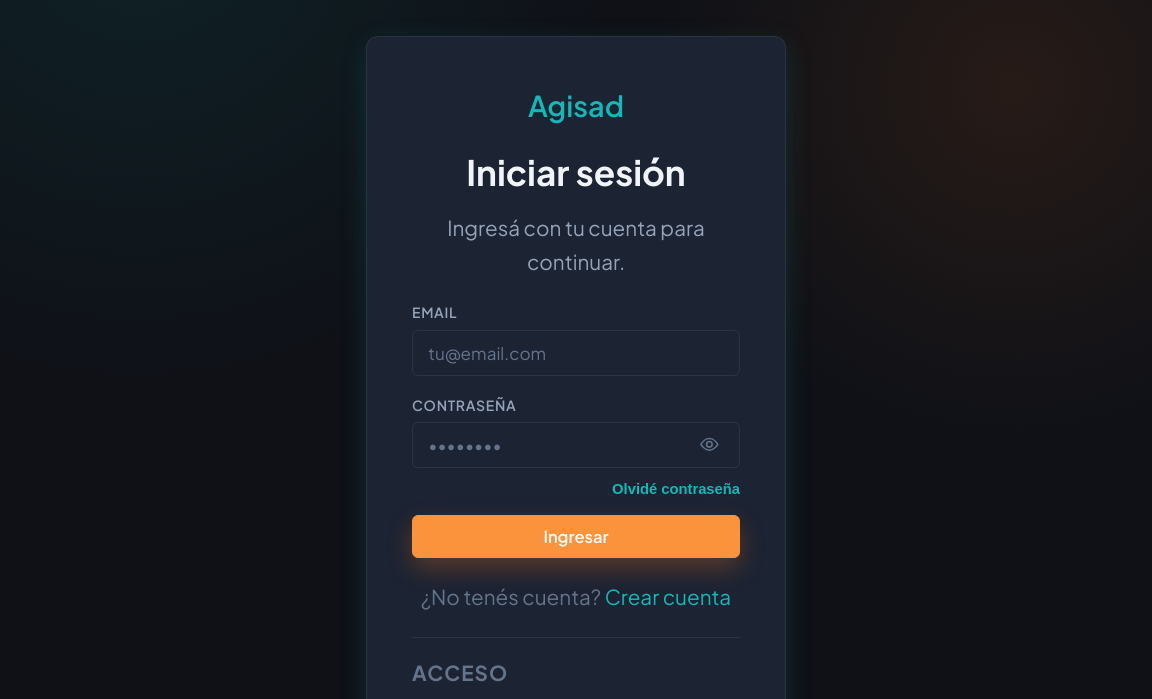
Test: LoginPage › exige ambos campos
The width and height of the screenshot is (1152, 699).
Type "a@x.com" into the field labelled "Email" at point(576, 353), box [412,330,740,376]
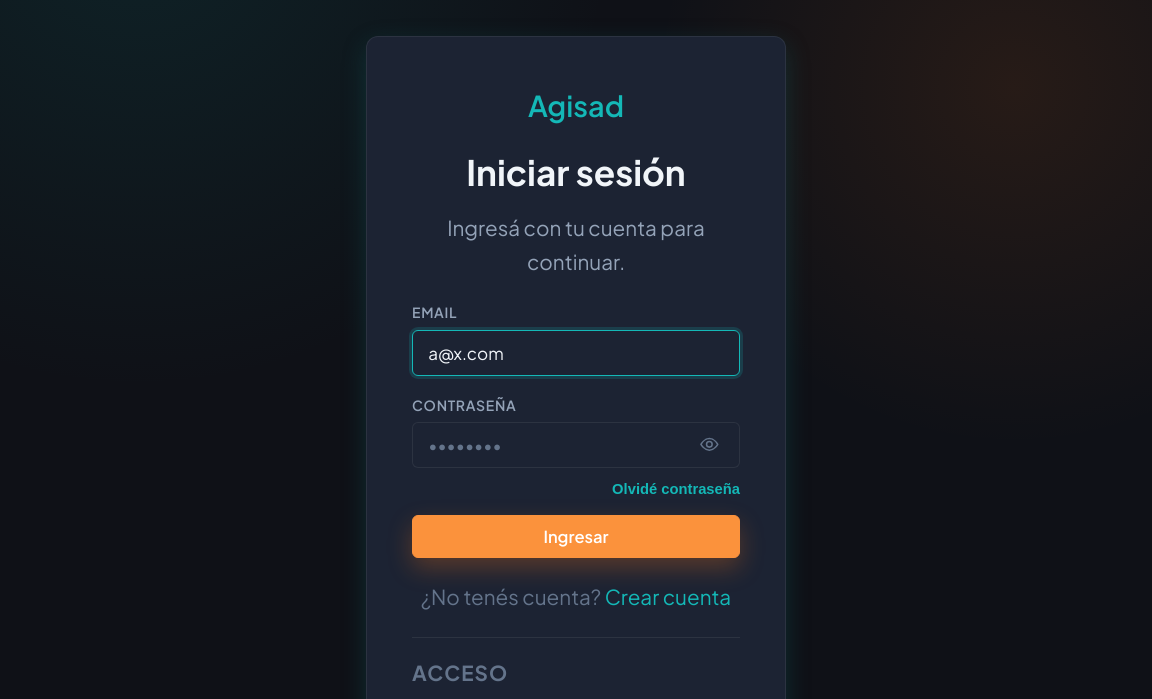
Click the button "Ingresar" at point(576, 536), box [412,515,740,558]
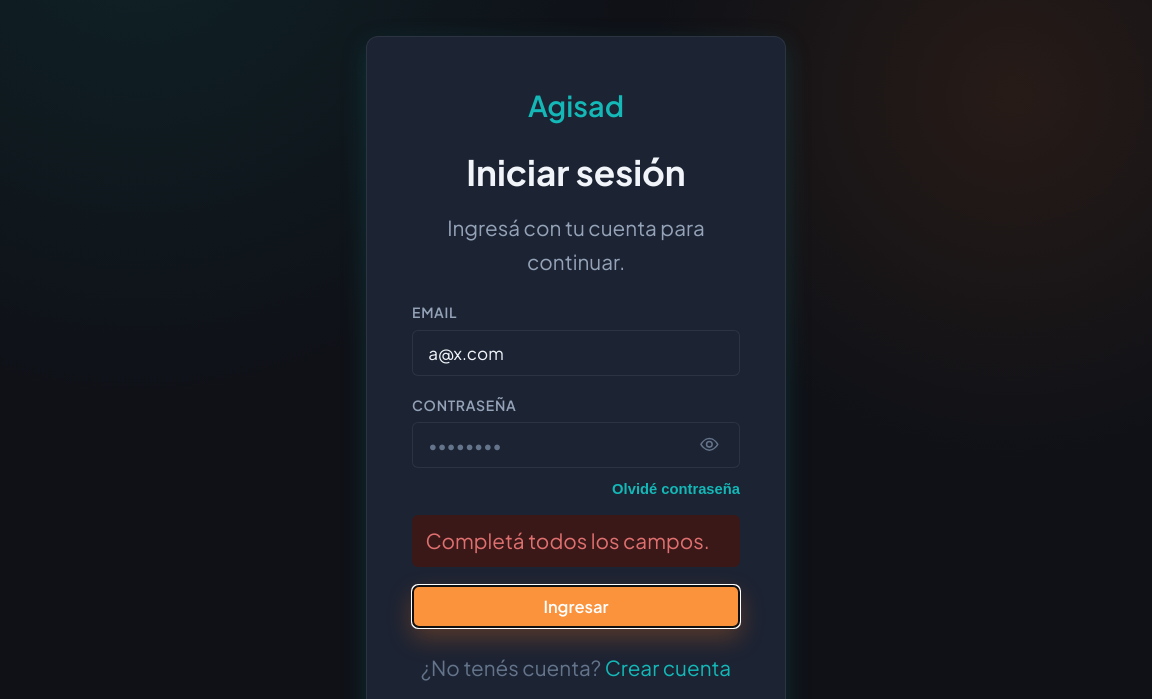
Expected: the text "Completá todos los campos." is shown, [412,515,740,567]
